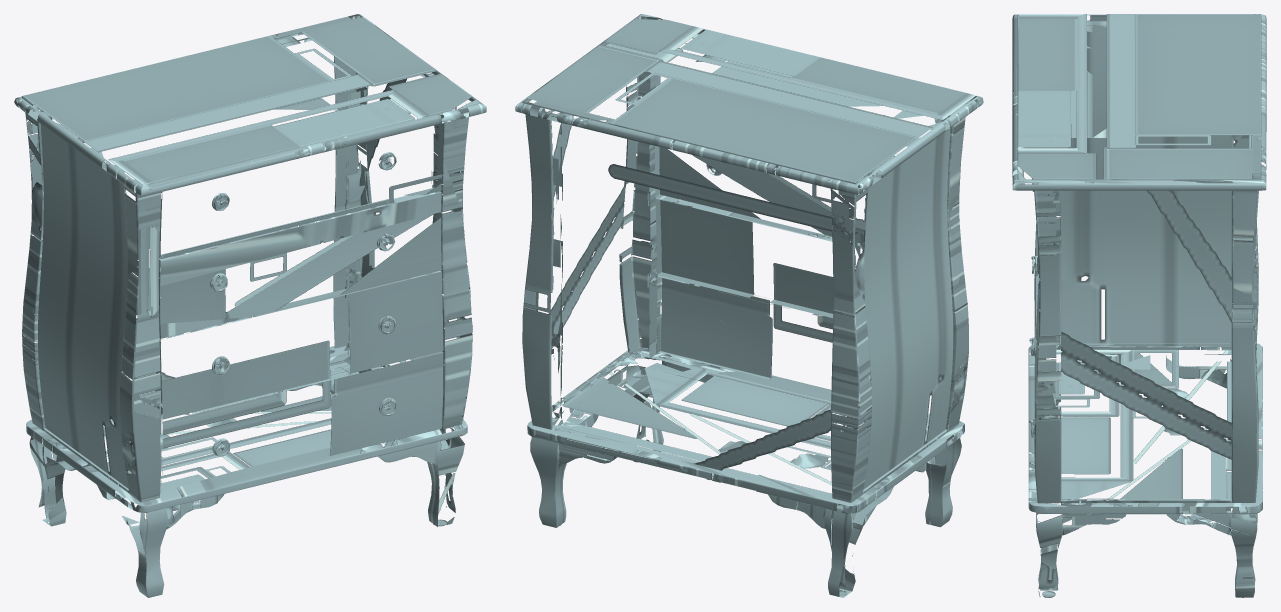
File: raw_model.obj
The picture shows the model from 3 angles, left to right: view 1: azimuth 30°, elevation 25°; view 2: azimuth 150°, elevation 25°; view 3: azimuth 270°, elevation 25°; orthographic projection.
Visible parts, largest first — view 1: solid_002, solid_001, solid_003; view 2: solid_002, solid_001; view 3: solid_002, solid_001.
Part boxes in pixels (x1,y1,x2,y2): solid_002: (22,37,472,597); solid_001: (14,14,486,196); solid_003: (210,152,396,456); solid_002: (522,43,968,597); solid_001: (515,14,983,194); solid_002: (1028,24,1262,597); solid_001: (1012,14,1266,190).
Bounding box in the file's own units: 0.7136 × 0.8398 × 0.4515.
